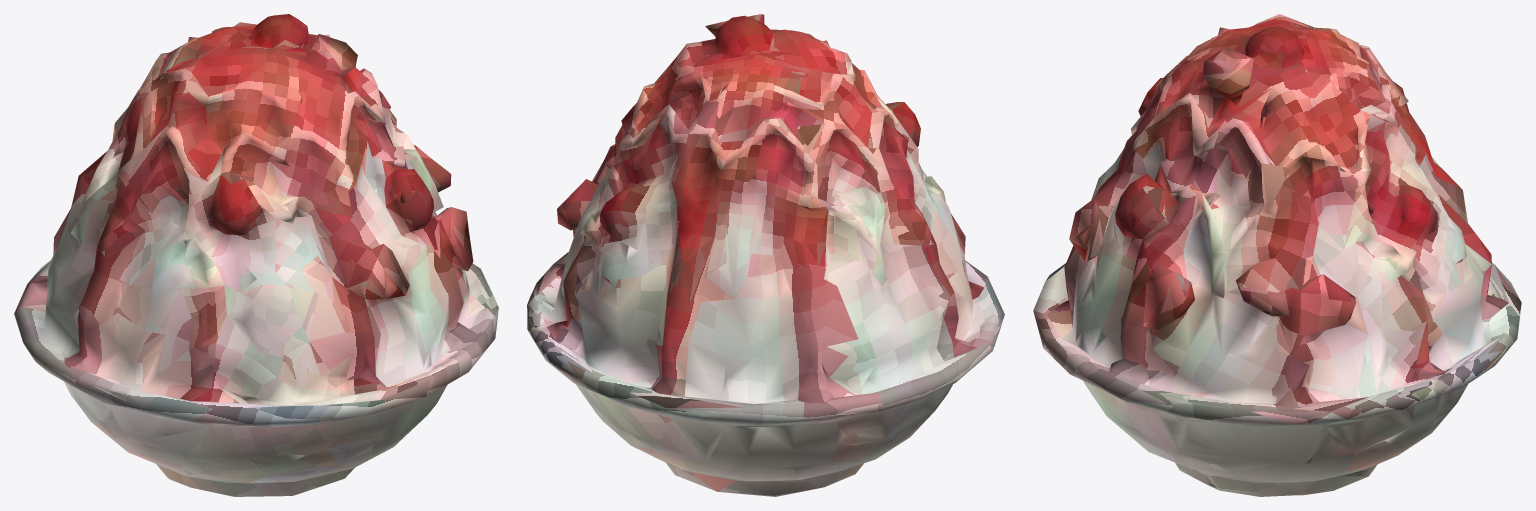
Rendered from JP_사물_s2_food_tier2_strawberry_kakigori.glb.
3 renders of one model, left to right at view 1: azimuth 30°, elevation 25°; view 2: azimuth 150°, elevation 25°; view 3: azimuth 270°, elevation 25°, orthographic.
Parts seen in each view (by area): view 1: tripo_node_6c510612-fa49-4219-b966-8111faef67d3; view 2: tripo_node_6c510612-fa49-4219-b966-8111faef67d3; view 3: tripo_node_6c510612-fa49-4219-b966-8111faef67d3.
Part boxes in pixels (x1,y1,x2,y2): tripo_node_6c510612-fa49-4219-b966-8111faef67d3: (14, 14, 498, 496); tripo_node_6c510612-fa49-4219-b966-8111faef67d3: (527, 14, 1004, 496); tripo_node_6c510612-fa49-4219-b966-8111faef67d3: (1033, 14, 1521, 496).
Bounding box in the file's own units: 0.9982 × 0.9836 × 1.
Materials: 1 (1 with a texture image).
